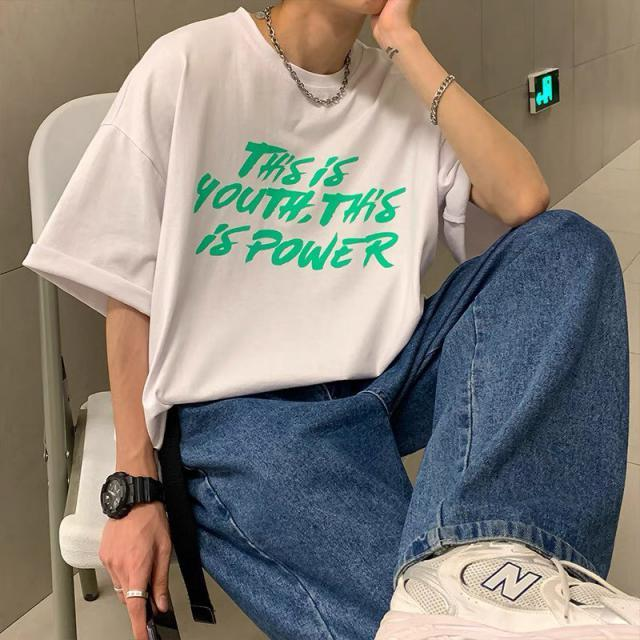Shirt: (22, 7, 469, 431)
